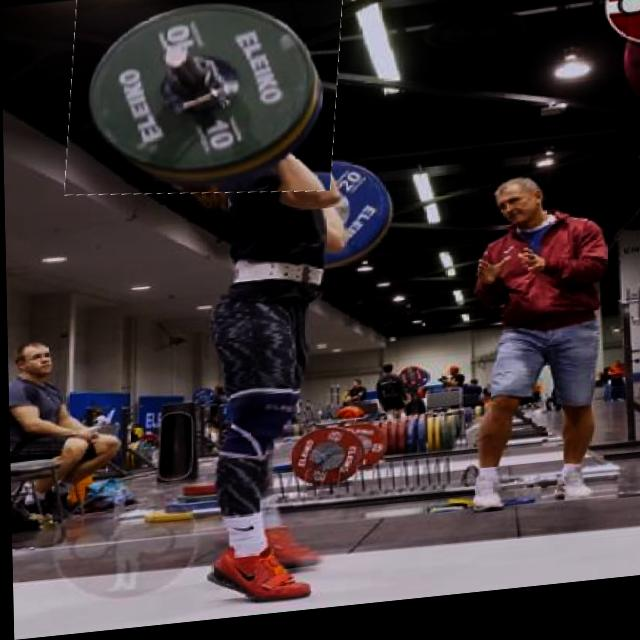barbell: (65, 1, 343, 214)
